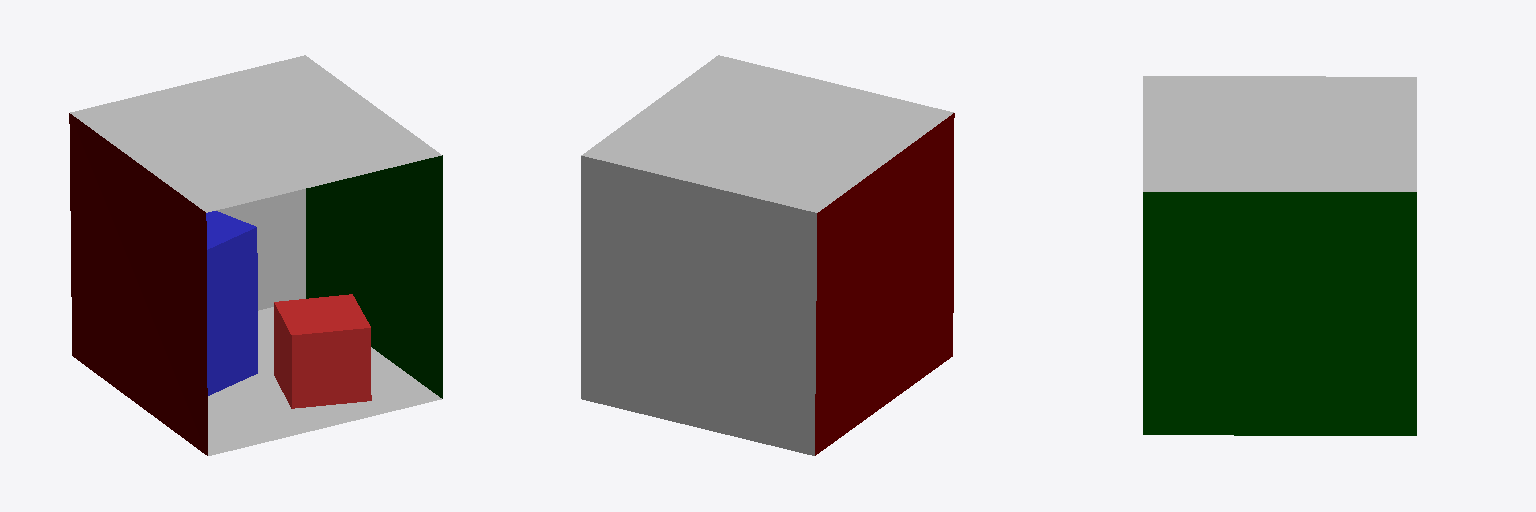
The model's file is cornell-box.obj.
3 renders of one model, left to right at view 1: azimuth 30°, elevation 25°; view 2: azimuth 150°, elevation 25°; view 3: azimuth 270°, elevation 25°, orthographic.
Size of the model in its own units: 5.56 by 5.49 by 5.6.